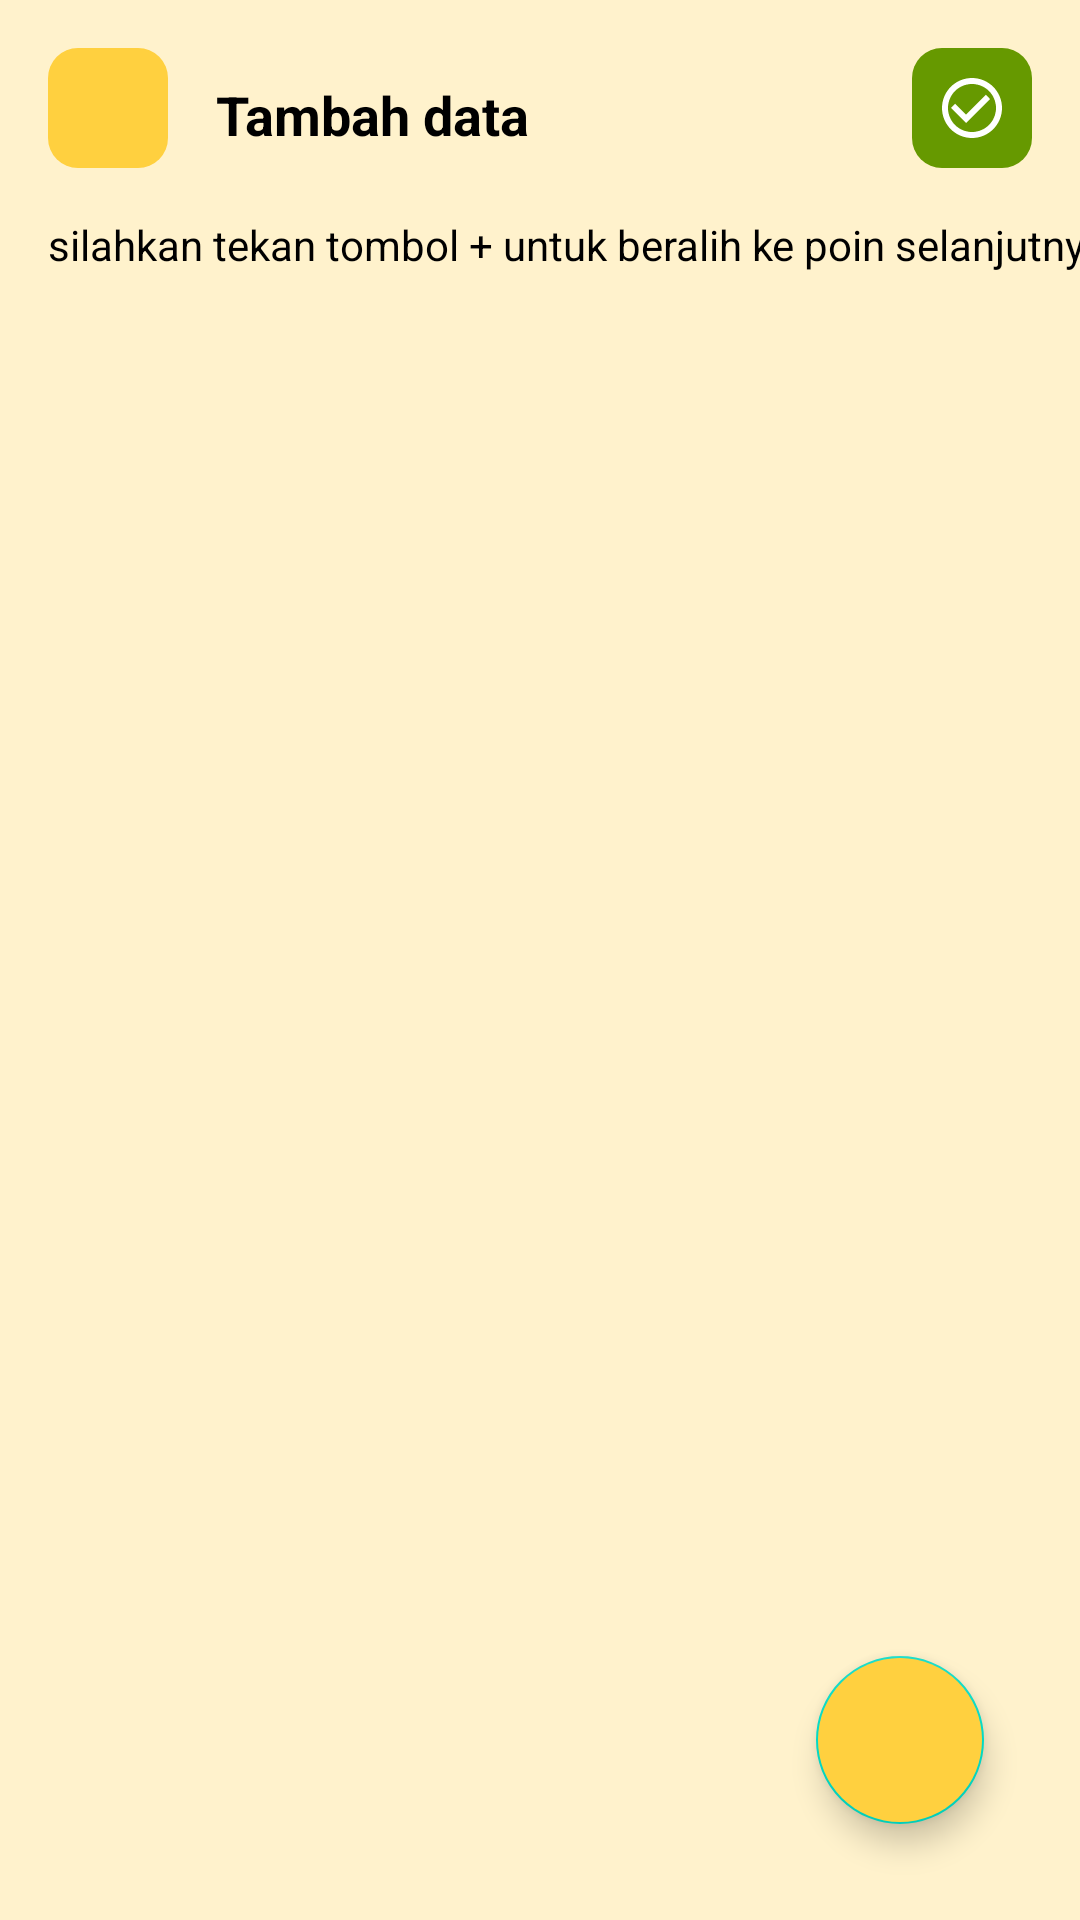

Icon click points for this 1080w x 1920h phone screenshot, format [x,y]:
check circle: [972,108]
